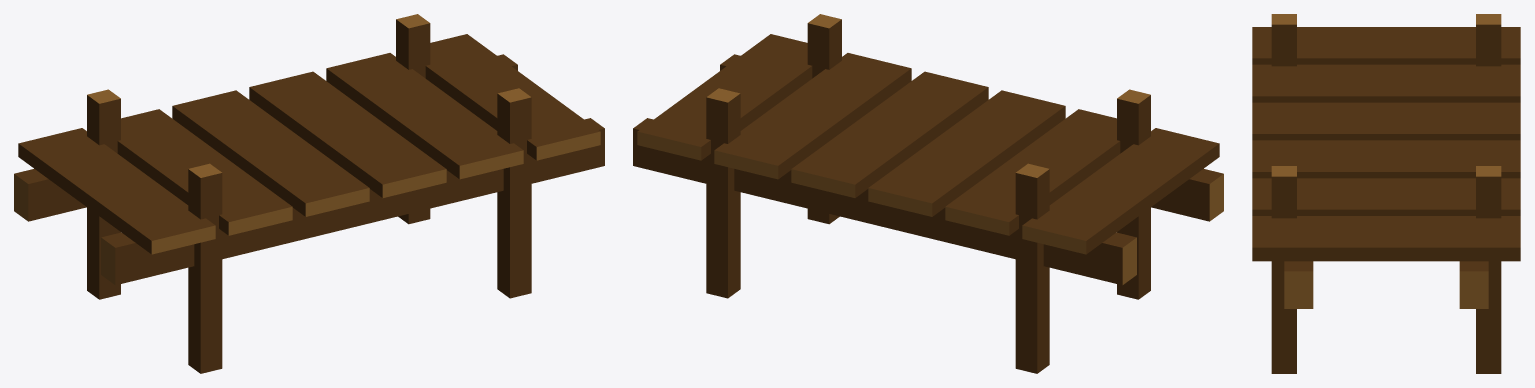
Rendered from ForestBridge_01.fbx.
The picture shows the model from 3 angles, left to right: view 1: azimuth 30°, elevation 25°; view 2: azimuth 150°, elevation 25°; view 3: azimuth 270°, elevation 25°; orthographic projection.
Parts seen in each view (by area): view 1: ForestBridge_01; view 2: ForestBridge_01; view 3: ForestBridge_01.
Boxes of the visible parts, box(x1,y1,x2,y2) form: ForestBridge_01: box(14, 14, 604, 373); ForestBridge_01: box(633, 14, 1223, 373); ForestBridge_01: box(1252, 14, 1520, 373).
Size of the model in its own units: 70.65 by 27.02 by 33.33.
